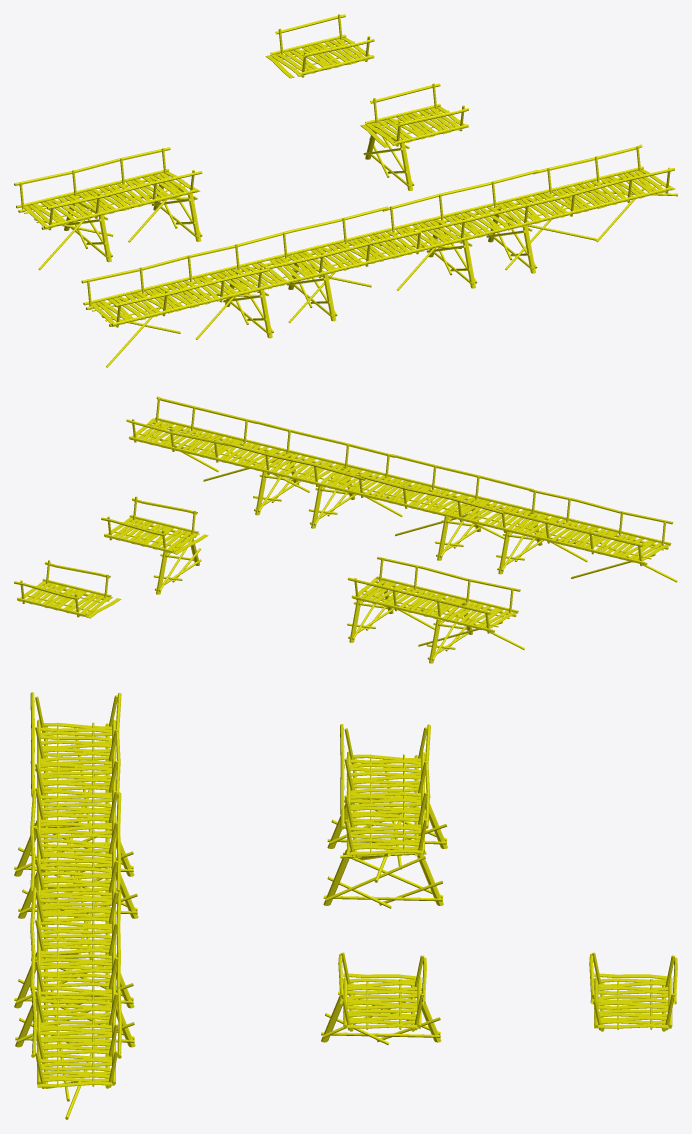
File: bridges.fbx
3 renders of one model, top to bottom at view 1: azimuth 30°, elevation 25°; view 2: azimuth 150°, elevation 25°; view 3: azimuth 270°, elevation 25°, orthographic. The views are drawn at different scales.
Parts seen in each view (by area): view 1: polySurface855, polySurface653, polySurface877, polySurface894; view 2: polySurface855, polySurface653, polySurface877, polySurface894; view 3: polySurface855, polySurface653, polySurface877, polySurface894.
Boxes of the visible parts, box(x1,y1,x2,y2) form: polySurface855: box(81, 144, 677, 367); polySurface653: box(14, 147, 202, 270); polySurface877: box(360, 83, 468, 190); polySurface894: box(265, 14, 374, 78); polySurface855: box(126, 396, 677, 582); polySurface653: box(347, 556, 524, 663); polySurface877: box(101, 496, 208, 594); polySurface894: box(14, 560, 121, 618); polySurface855: box(14, 692, 138, 1119); polySurface653: box(323, 724, 447, 908); polySurface877: box(321, 952, 441, 1044); polySurface894: box(589, 952, 677, 1031).
Size of the model in its own units: 32.61 by 3.59 by 24.24.
